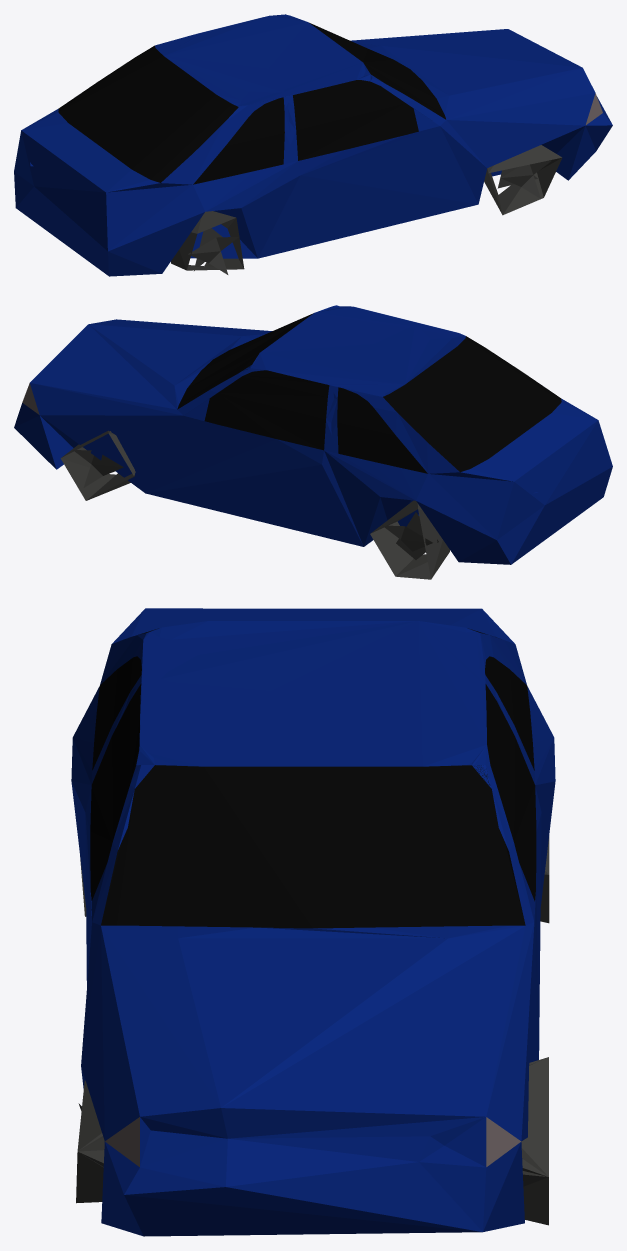
The model's file is pc-coupe.lod2.glb.
3 views of the same model, one above another, from view 1: azimuth 30°, elevation 25°; view 2: azimuth 150°, elevation 25°; view 3: azimuth 270°, elevation 25° (orthographic). The views are drawn at different scales.
Visible parts, largest first — view 1: Coupe Body_Body_0; view 2: Coupe Body_Body_0; view 3: Coupe Body_Body_0.
Part boxes in pixels (<box>): Coupe Body_Body_0: <box>14,14,612,276</box>; Coupe Body_Body_0: <box>14,305,612,579</box>; Coupe Body_Body_0: <box>71,608,555,1236</box>.
Size of the model in its own units: 4.01 by 1.21 by 1.63.
